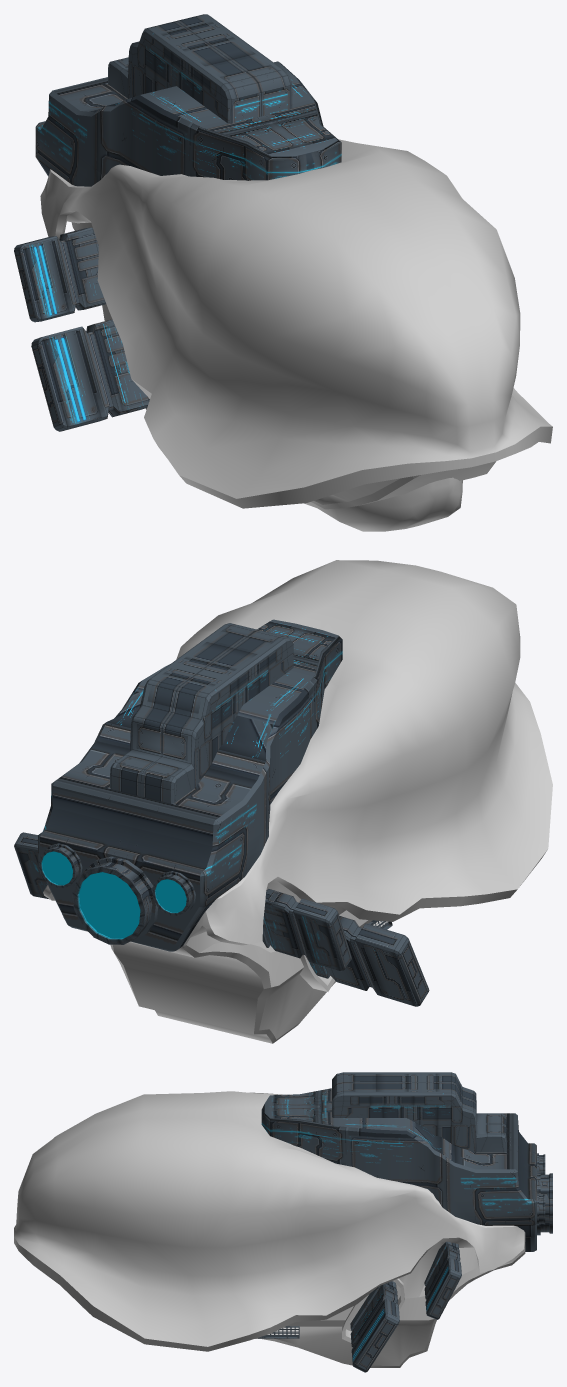
File: vaisseau.fbx
3 views of the same model, one above another, from view 1: azimuth 30°, elevation 25°; view 2: azimuth 150°, elevation 25°; view 3: azimuth 270°, elevation 25° (orthographic). The views are drawn at different scales.
Visible parts, largest first — view 1: Spaceship, main_part, cockpit, aileron_r_big, aileron_r_small, underpart_spaceship; view 2: Spaceship, main_part, cockpit, reacteur, aileron_r_big, aileron_r_small, reacteur_s_2, reacteur_s_1, aileron_L_small; view 3: Spaceship, main_part, cockpit, aileron_L_big, aileron_L_small, reacteur.
Part boxes in pixels (bbox=[...]): Spaceship: bbox=[40, 139, 552, 509]; main_part: bbox=[35, 61, 341, 186]; cockpit: bbox=[108, 14, 292, 123]; aileron_r_big: bbox=[31, 319, 149, 431]; aileron_r_small: bbox=[14, 227, 106, 322]; underpart_spaceship: bbox=[304, 477, 462, 531]; Spaceship: bbox=[43, 560, 552, 1043]; main_part: bbox=[38, 619, 342, 951]; cockpit: bbox=[110, 623, 293, 803]; reacteur: bbox=[72, 856, 157, 944]; aileron_r_big: bbox=[309, 915, 429, 1006]; aileron_r_small: bbox=[262, 889, 351, 971]; reacteur_s_2: bbox=[152, 871, 195, 915]; reacteur_s_1: bbox=[38, 843, 82, 888]; aileron_L_small: bbox=[14, 832, 49, 899]; Spaceship: bbox=[14, 1091, 525, 1367]; main_part: bbox=[261, 1088, 536, 1251]; cockpit: bbox=[332, 1072, 506, 1152]; aileron_L_big: bbox=[350, 1281, 399, 1372]; aileron_L_small: bbox=[424, 1241, 461, 1319]; reacteur: bbox=[537, 1171, 552, 1235].
Bounding box in the file's own units: 365 × 357 × 657.
